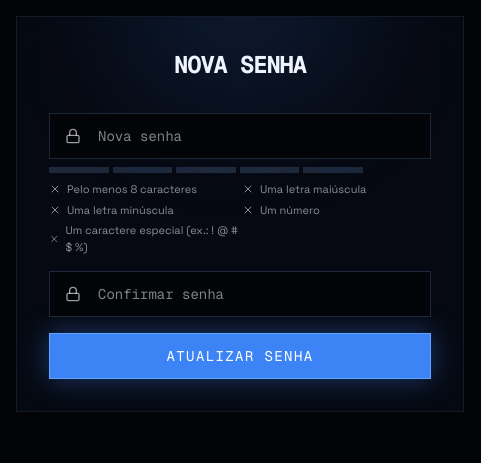
Test: /redefinir-senha › recusa senha fraca
In the password field labelled "Nova senha": (240, 136) [49,113,431,159], type "fraca123"
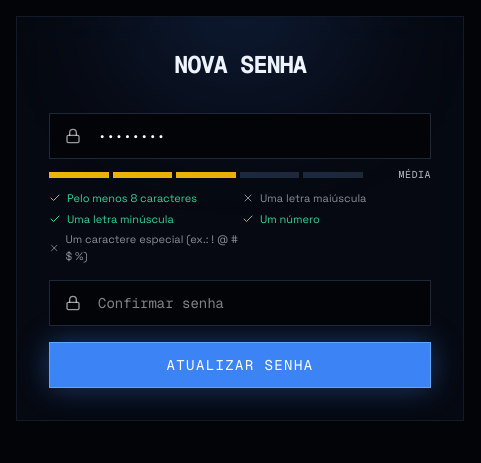
In the password field labelled "Confirmar senha": (240, 303) [49,280,431,326], type "fraca123"
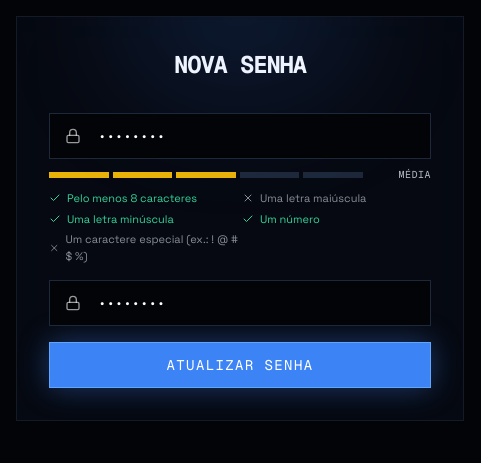
Click the button "Atualizar Senha": (240, 365) [49,342,431,388]
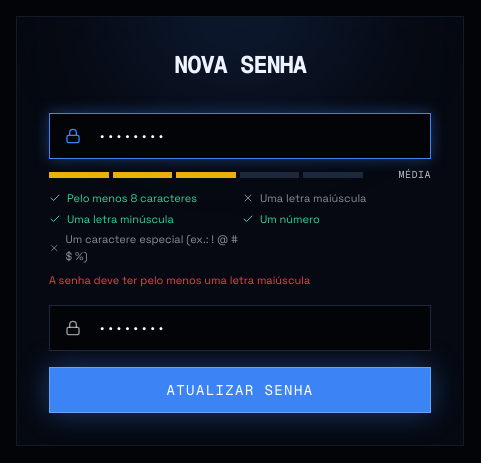
Expected: the text "A senha deve ter pelo menos uma letra maiúscula" is shown, [49,273,310,287]
